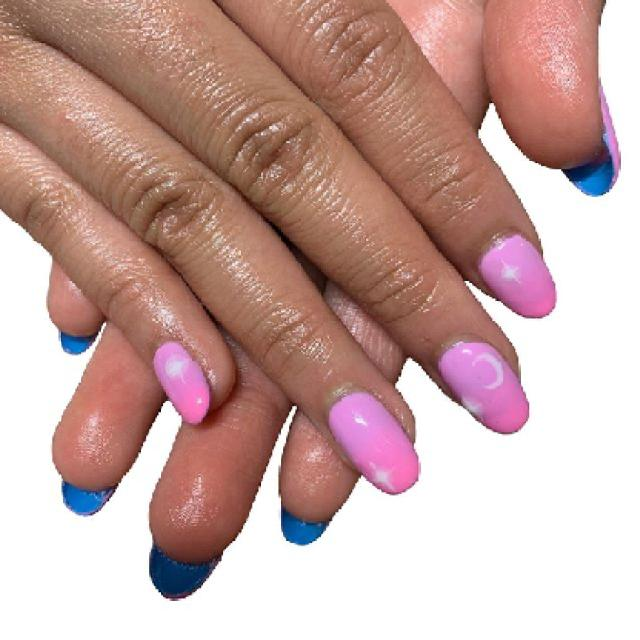Nail: (329, 392, 419, 493), (438, 341, 529, 432), (480, 235, 556, 317), (155, 342, 210, 423)
